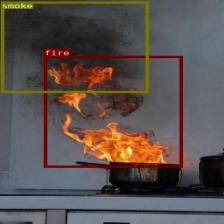fire: (44, 56, 182, 167)
smoke: (0, 1, 148, 92)
